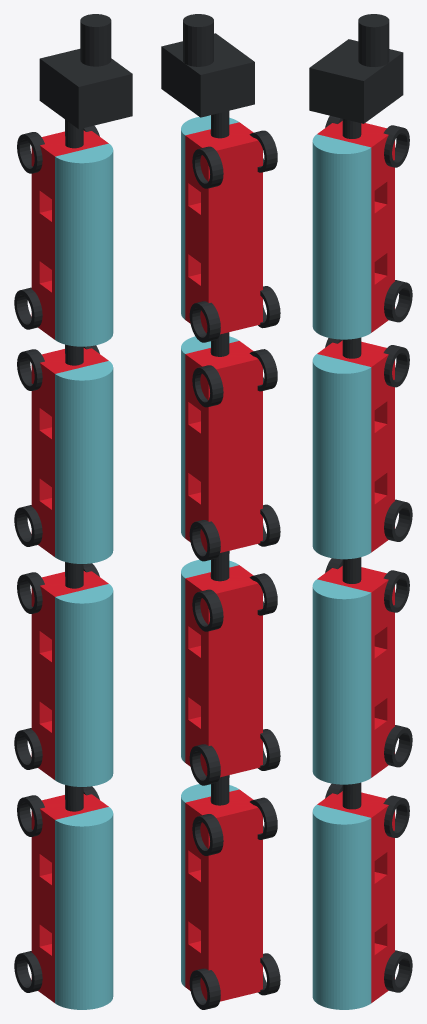
File: tinker.obj
3 views of the same model, side by side, from view 1: azimuth 30°, elevation 25°; view 2: azimuth 210°, elevation 25°; view 3: azimuth 330°, elevation 25° (orthographic).
Visible parts, largest first — view 1: group_0_7720667, group_0_15277357, group_0_2829873; view 2: group_0_15277357, group_0_2829873, group_0_7720667; view 3: group_0_7720667, group_0_15277357, group_0_2829873.
Boxes of the visible parts, x1,y1,x2,y2 form: group_0_7720667: (55, 143, 113, 1009); group_0_15277357: (31, 130, 108, 1002); group_0_2829873: (14, 14, 132, 992); group_0_15277357: (185, 122, 262, 1001); group_0_2829873: (161, 14, 280, 1009); group_0_7720667: (181, 115, 238, 986); group_0_7720667: (312, 134, 371, 1009); group_0_15277357: (317, 121, 394, 1002); group_0_2829873: (309, 14, 412, 992).
Bounding box in the file's own units: 26 × 343 × 31.
